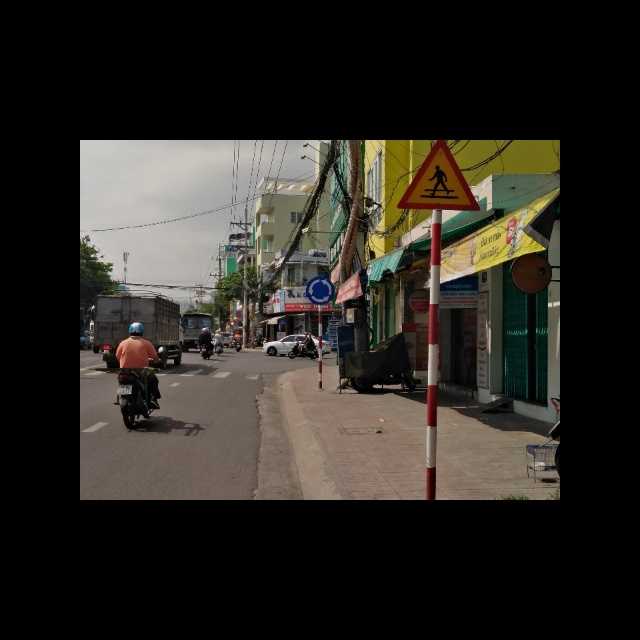Nơi giao nhau chạy theo vòng xuyến: (306, 277, 337, 306)
Đường người đi bộ sang đường: (395, 140, 478, 211)
